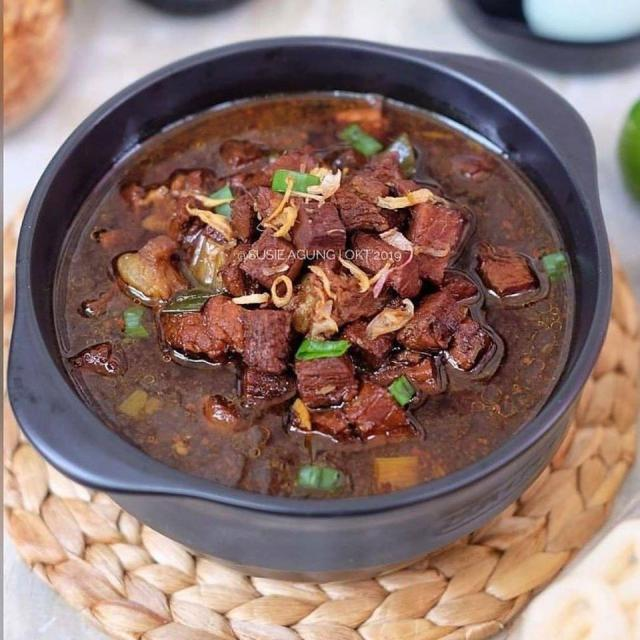Rawon: (41, 73, 565, 486)
